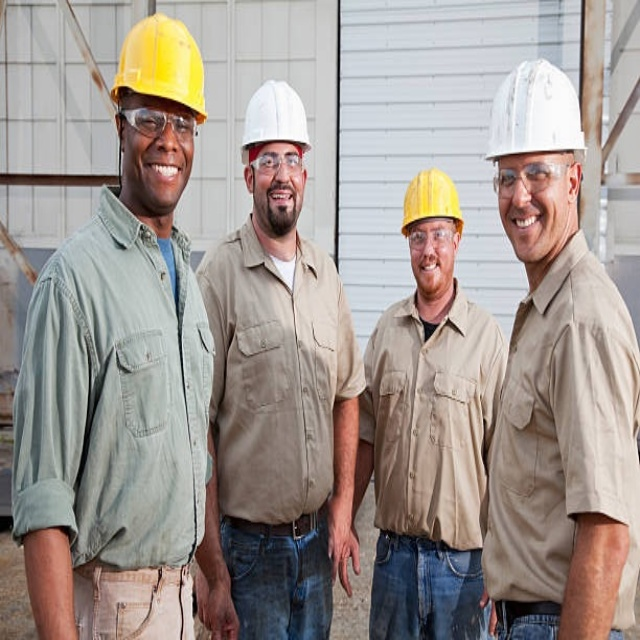Gafas: (492, 163, 573, 197), (119, 107, 198, 140), (251, 152, 306, 174), (409, 228, 458, 250)
Sin_guantes: (318, 488, 365, 590), (198, 576, 241, 634)
Sin_mascara: (507, 207, 543, 259), (145, 155, 184, 199), (266, 185, 293, 218), (417, 256, 441, 287)
